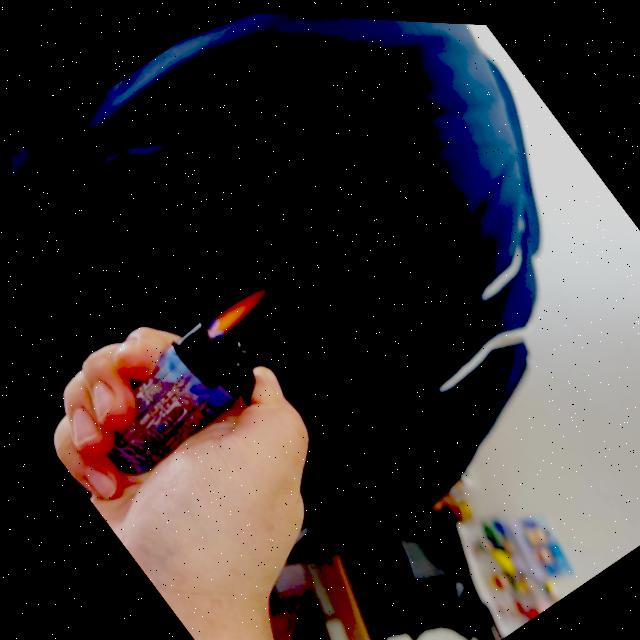Fire: (193, 274, 274, 344)
